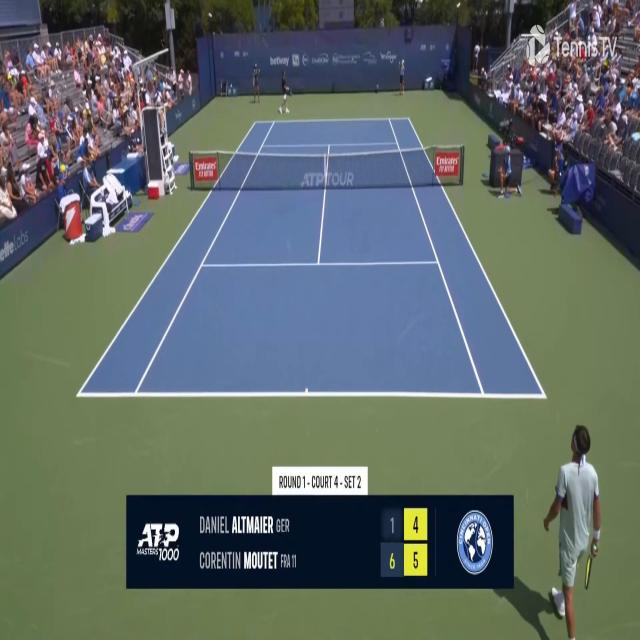tennis-player: (534, 419, 602, 638), (278, 70, 292, 115)
